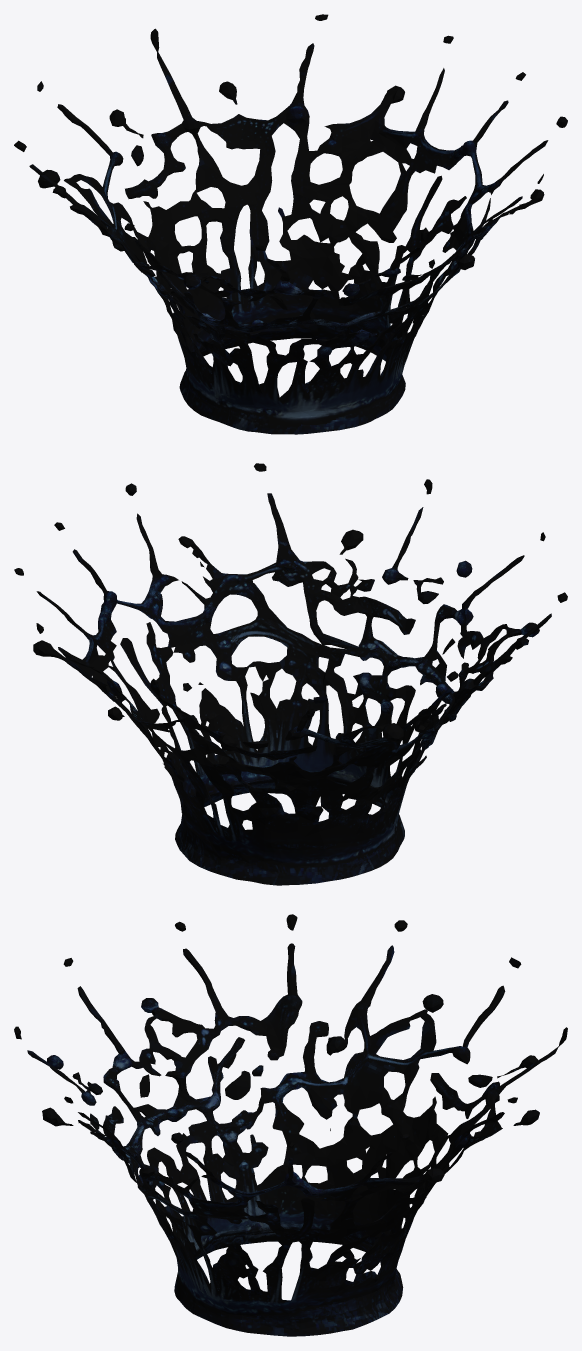
File: splash.glb
3 views of the same model, one above another, from view 1: azimuth 30°, elevation 25°; view 2: azimuth 150°, elevation 25°; view 3: azimuth 270°, elevation 25° (orthographic).
Visible parts, largest first — view 1: world; view 2: world; view 3: world.
Part boxes in pixels (x1,y1,x2,y2): world: (14, 14, 567, 434); world: (14, 463, 567, 885); world: (14, 914, 567, 1336).
Bounding box in the file's own units: 0.6978 × 0.366 × 0.7012.
1 material, 1 textured.
